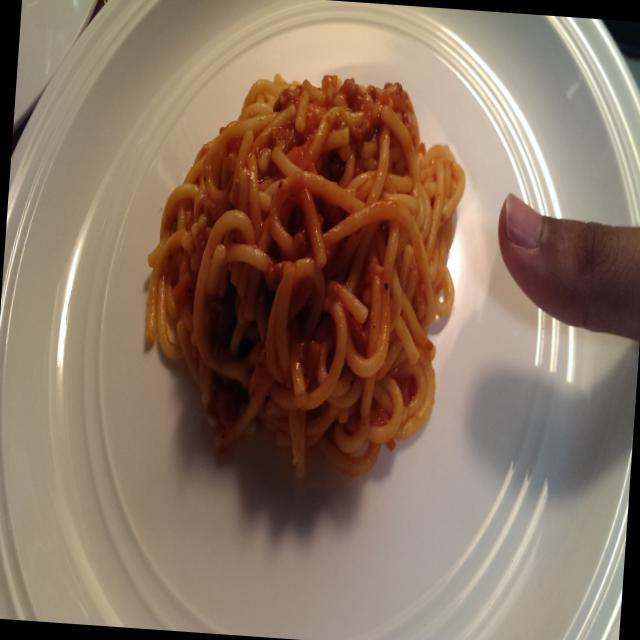Pasta: (91, 35, 488, 506)
